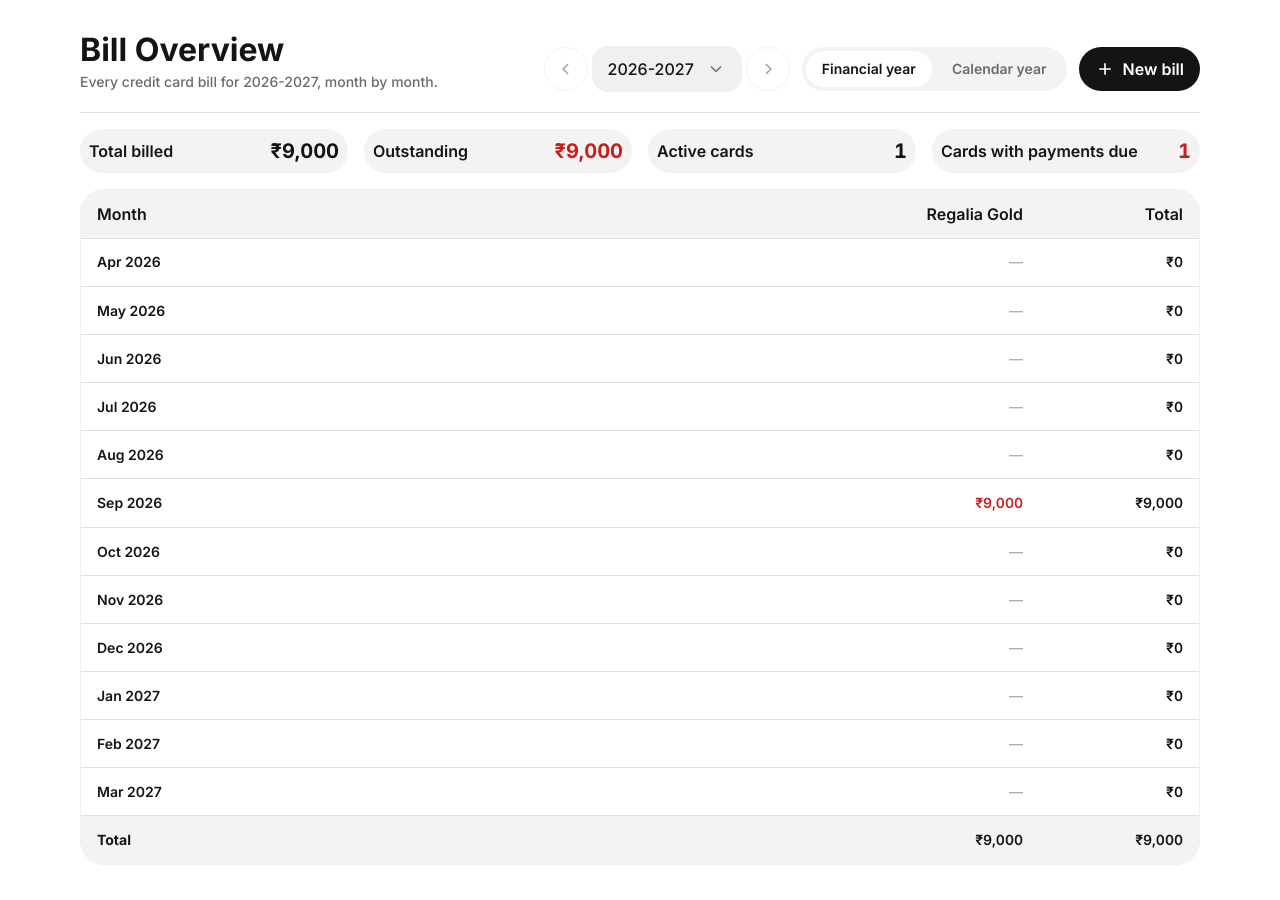
Test: Bill Overview › selects the financial year ending in the current calendar year
This screenshot has width=1280, height=900.
Expected: the column heading "Sep 2026" is shown, [81,479,241,528]
Click the radio button labelled "Calendar year".
click(999, 69)  # box [936,51,1063,87]
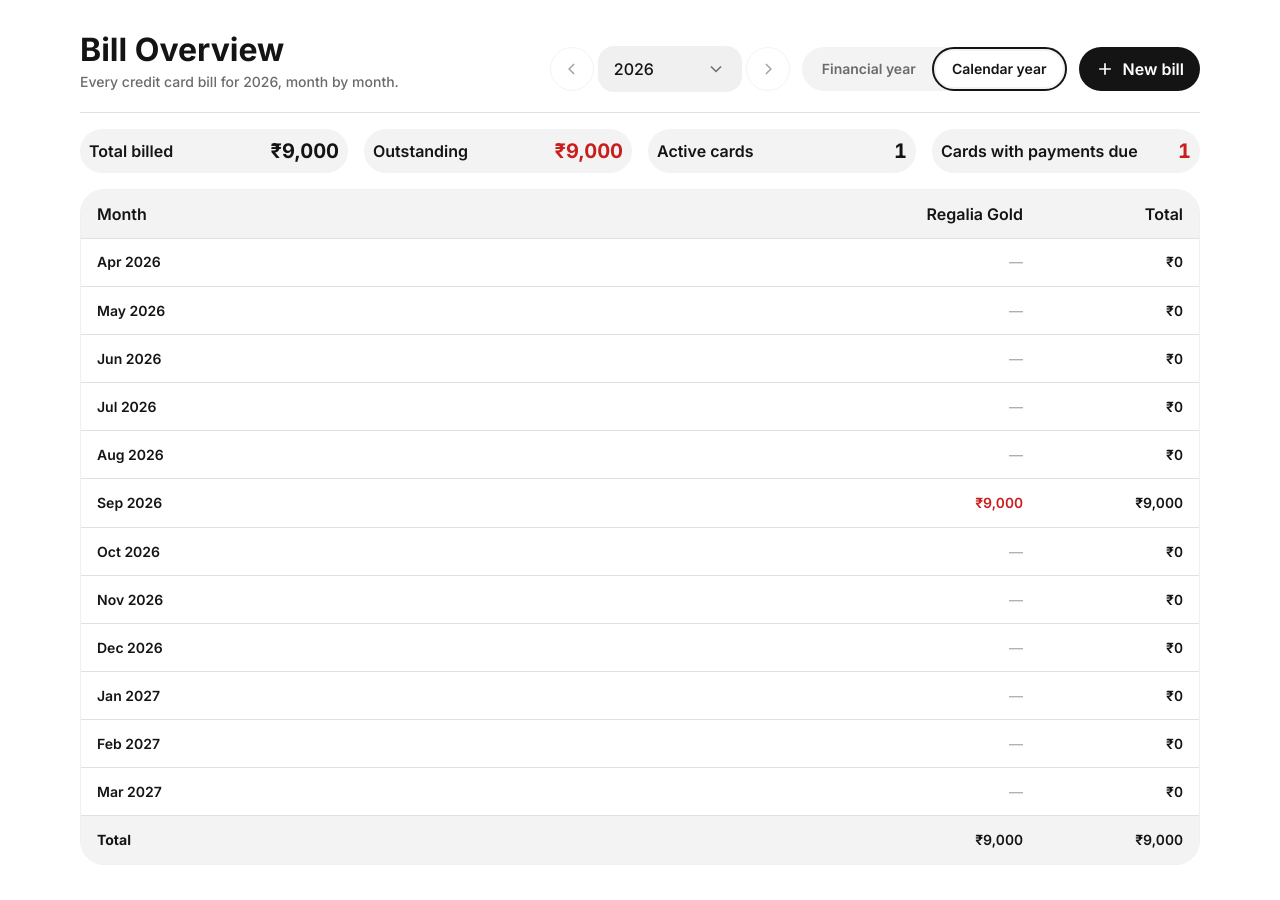
Expected: the text "2026" is shown, [614,58,654,80]
Click the radio button labelled "Financial year".
click(869, 69)  # box [806,51,932,87]
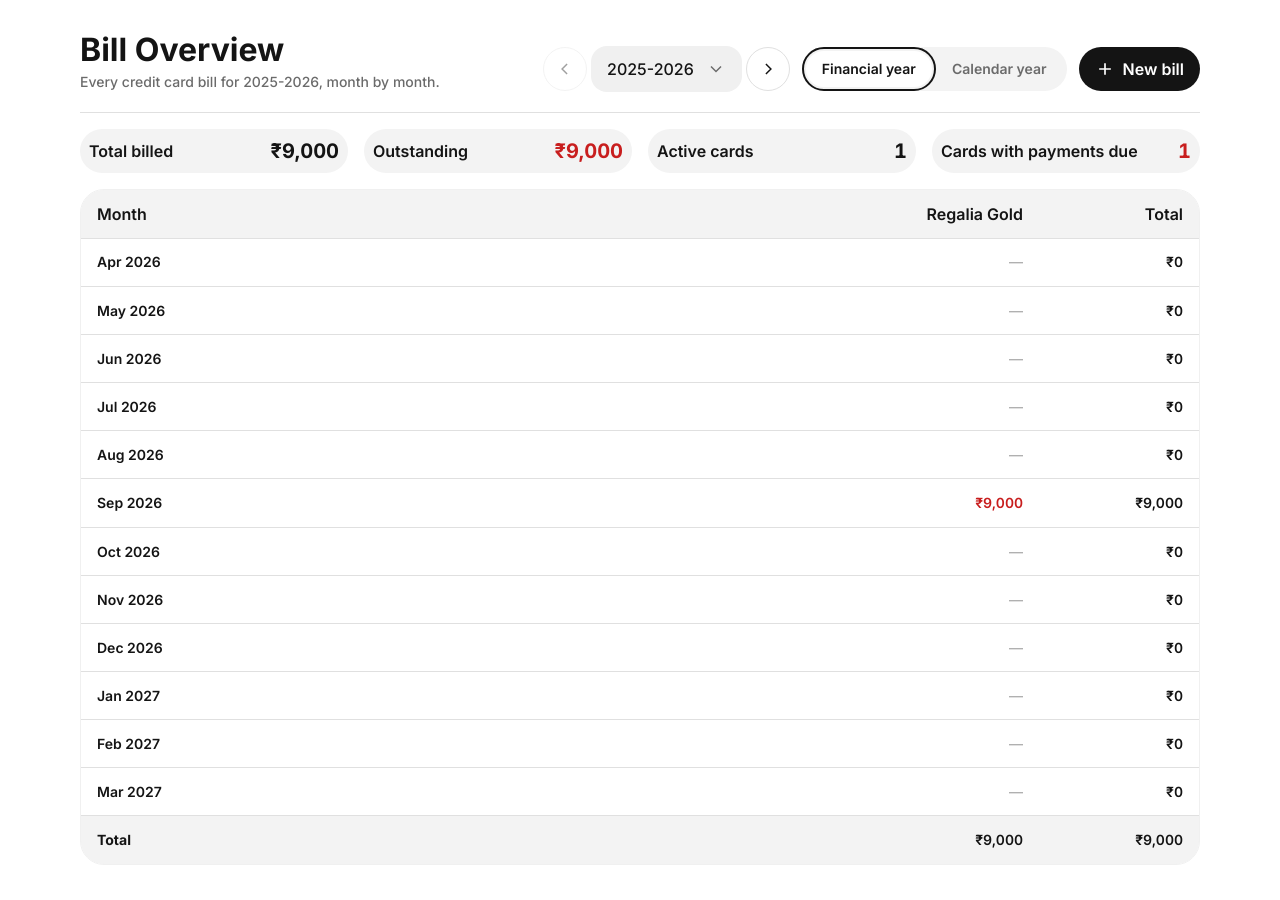
Expected: the text "2025-2026" is shown, [607,58,694,80]
